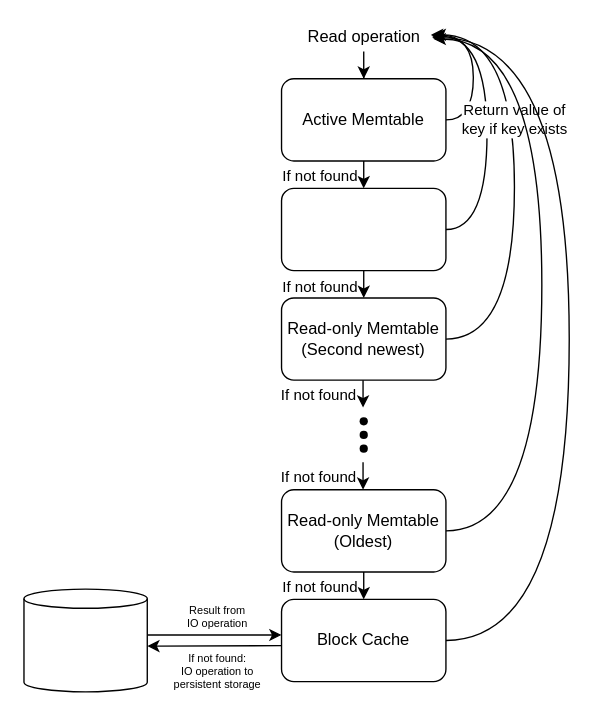
The diagram is 593 pixels wide and 715 high, and some of its shapes have lost their labels. The shapes that lost their labels are listed below. From the top down, each one's centre as x and y in pixels, then its label:
At point 363,229: "Read-only Memtable (Newest)".
At point 85,640: "Persistent storage".
